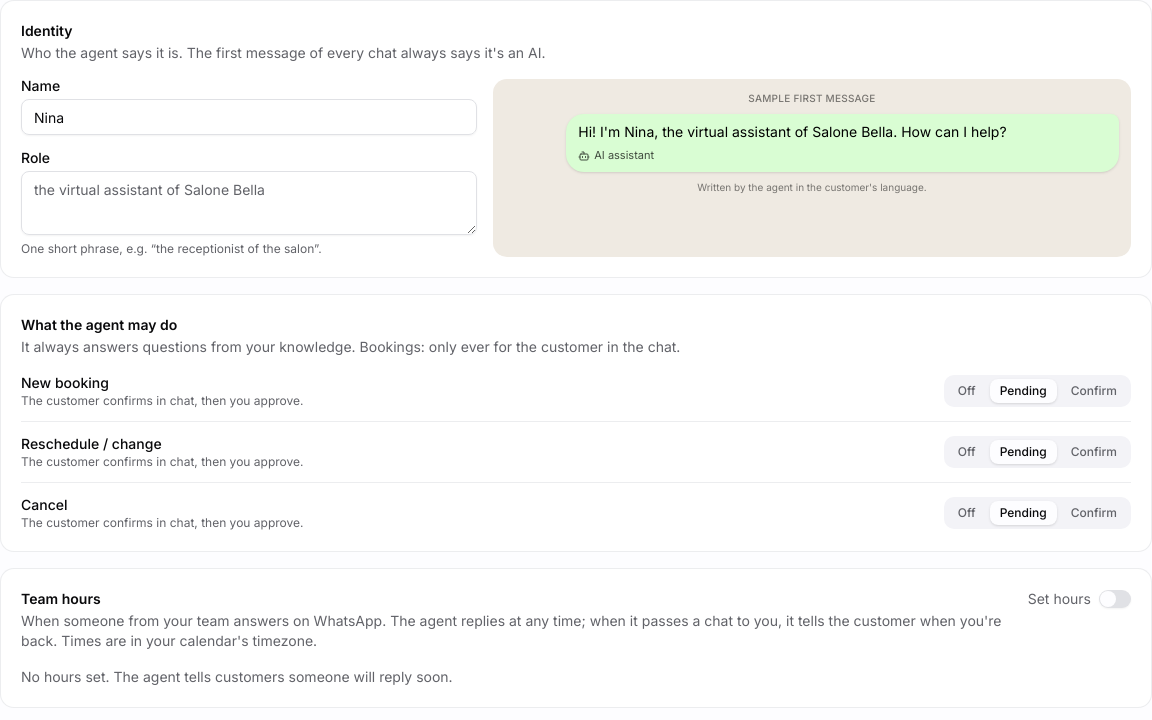
Test: SettingsTab › shows the error and keeps the changes when saving fails
Step 1. Type "x" into the field labelled "Name" → (249, 117), box [21,99,477,135]
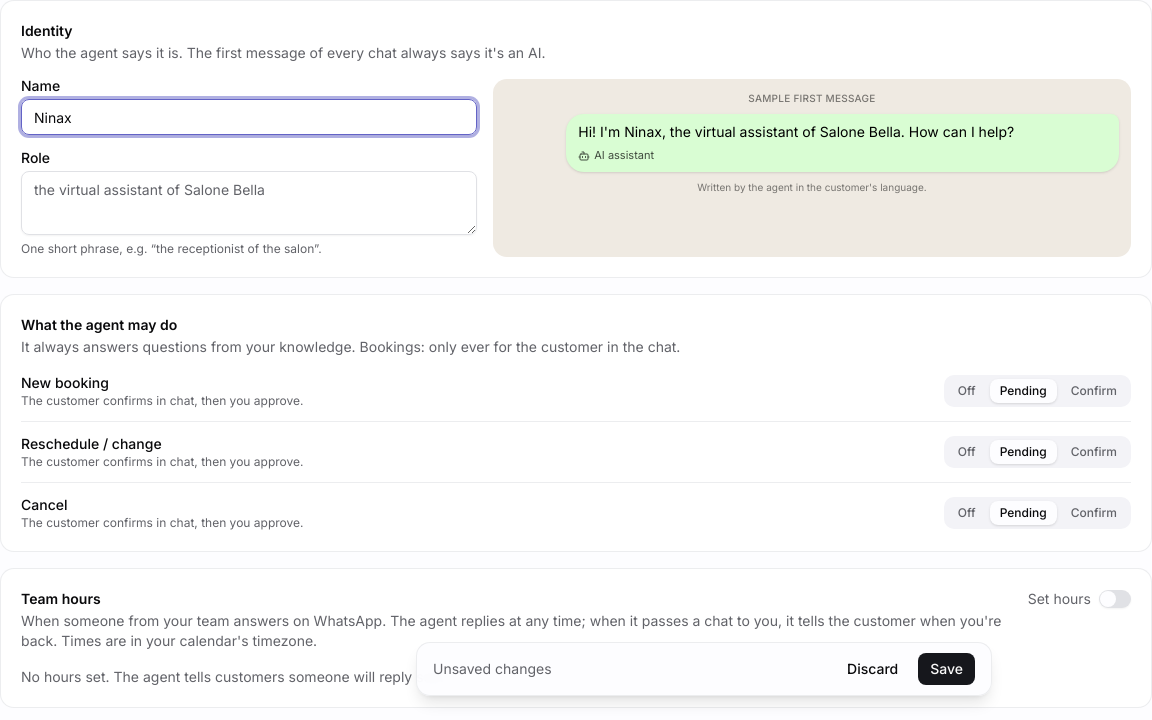
Step 2. Click the button "Save" → (947, 669), box [918,653,975,685]
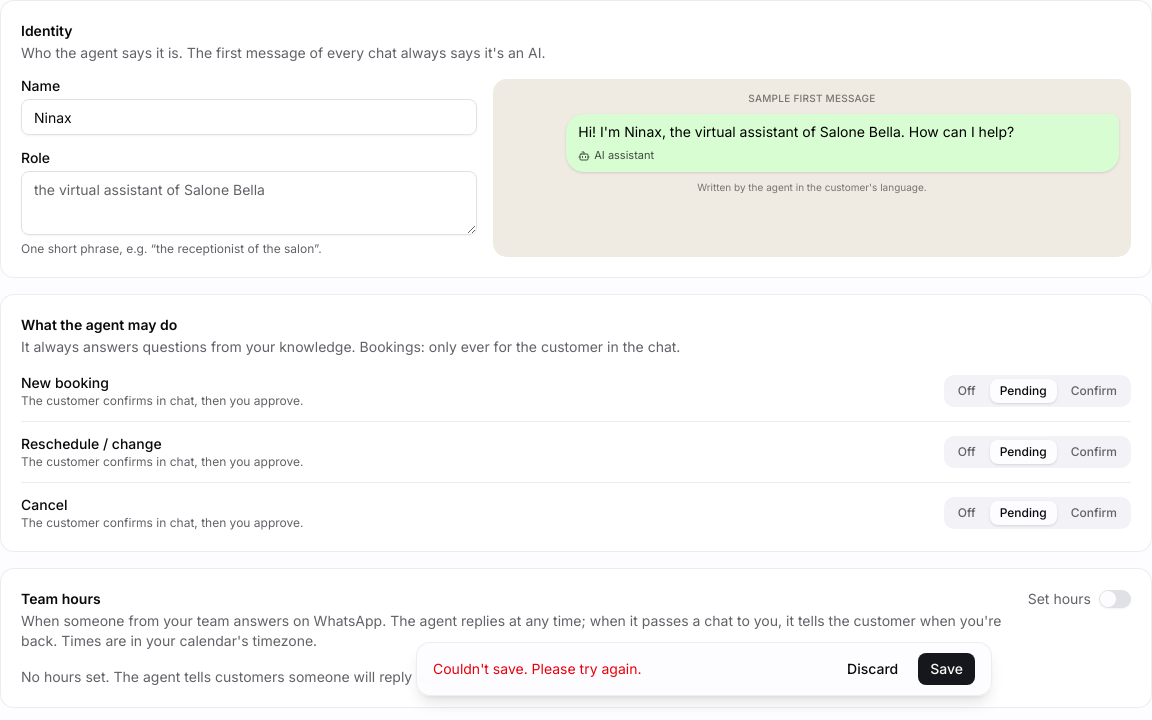
Expected: the field labelled "Name" holds "Ninax", [21,99,477,135]
Expected: the message shows "Couldn't save", [433,660,642,677]
